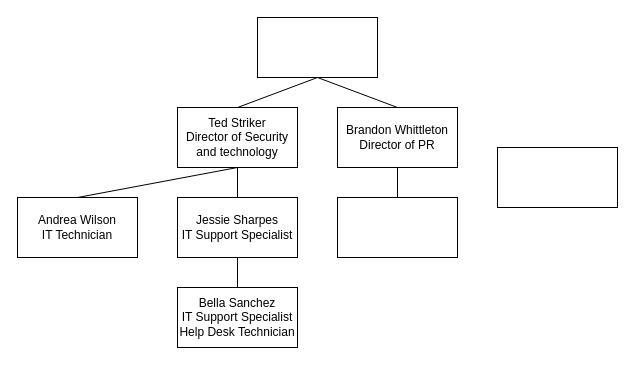
Image size: 635x365. Some labels were removed from this diagram. The shapes that lost their labels are listed below. From the top down, each one's centre as x and y in pixels, then its label:
At pixel 317 47: "Robert Kalka Principle".
At pixel 557 177: "Remy Mercer Community Outreach Coordinator".
At pixel 397 227: "Wendel Pruessen PR manager".
